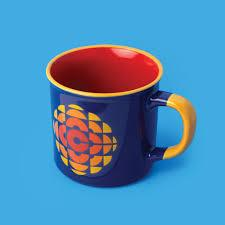Mug: (18, 39, 219, 198)
